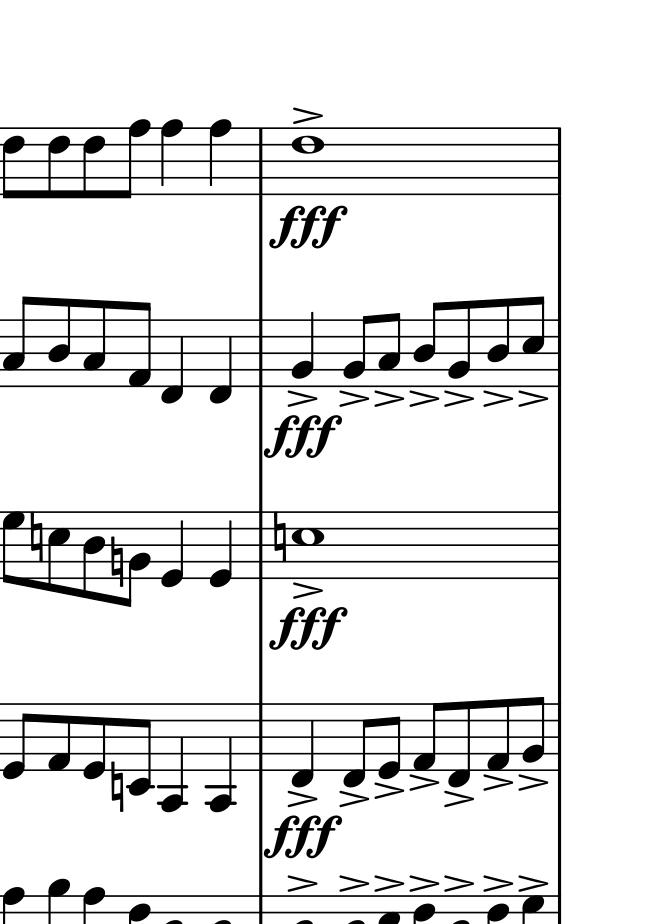1_5: (290, 510, 325, 582)
1_6: (290, 125, 325, 198)
4_-1: (288, 701, 317, 790), (207, 316, 235, 406), (159, 317, 186, 406)
4_-4: (205, 700, 237, 813)
4_0: (158, 509, 187, 589), (208, 509, 235, 589)
4_2: (289, 309, 317, 389)
4_8: (159, 118, 184, 197), (208, 119, 233, 197)
8_-1: (340, 701, 374, 787), (445, 699, 472, 789)
8_-2: (125, 701, 154, 797)
8_-4: (157, 700, 188, 813)
8_0: (3, 702, 33, 782), (80, 701, 107, 782), (377, 701, 403, 780)
8_1: (126, 299, 153, 389), (412, 700, 444, 775), (485, 698, 512, 776), (45, 701, 72, 773)
8_2: (121, 510, 152, 607), (339, 313, 372, 387), (446, 299, 473, 389), (520, 695, 546, 772)
8_3: (3, 295, 34, 391), (82, 298, 109, 390), (376, 310, 402, 388)
8_4: (411, 300, 445, 388), (484, 297, 512, 389), (46, 297, 72, 389), (80, 509, 105, 602)
8_5: (521, 294, 546, 388), (46, 510, 69, 595)
8_6: (80, 126, 106, 200), (45, 126, 70, 201), (1, 126, 26, 199)
8_7: (1, 510, 24, 587)
8_8: (117, 118, 150, 201)
Accent_above: (335, 788, 372, 809), (335, 873, 371, 893), (371, 873, 406, 893), (406, 873, 441, 893), (370, 388, 403, 409), (284, 788, 320, 807), (441, 873, 475, 893), (290, 106, 324, 126), (480, 772, 514, 792), (518, 770, 547, 792), (408, 771, 438, 792), (407, 390, 440, 409), (443, 789, 474, 809), (517, 389, 546, 410), (480, 388, 510, 408), (373, 780, 403, 800), (283, 874, 316, 892), (291, 581, 322, 600), (517, 872, 546, 892), (480, 874, 512, 892), (339, 391, 371, 408), (442, 391, 473, 408), (286, 389, 316, 405)
Natural: (270, 511, 289, 565), (108, 761, 125, 815), (108, 535, 125, 588), (28, 512, 44, 565)
Single_barline: (551, 703, 568, 774), (251, 320, 269, 387), (251, 511, 269, 577), (550, 513, 567, 576), (551, 128, 567, 193), (253, 129, 269, 194), (551, 322, 567, 386), (252, 705, 268, 769)
fff: (262, 411, 346, 463), (263, 810, 345, 863), (267, 603, 348, 655), (268, 204, 350, 253)
